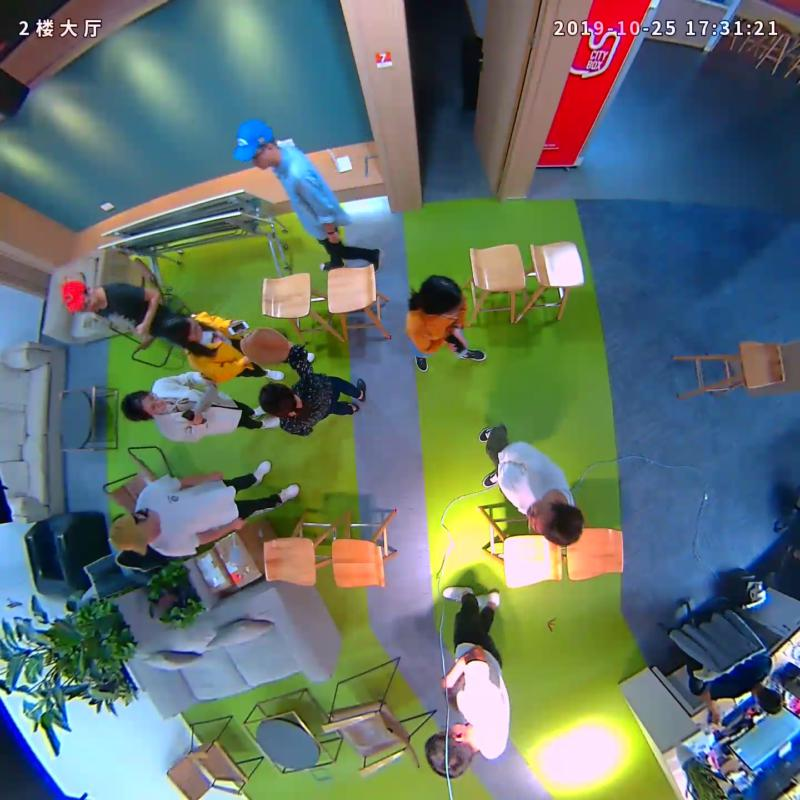head: (425, 722, 475, 778), (527, 500, 584, 547), (232, 119, 276, 171), (109, 513, 161, 554), (417, 274, 461, 316), (259, 381, 300, 419), (121, 390, 168, 423), (61, 279, 102, 314), (161, 313, 204, 343)
